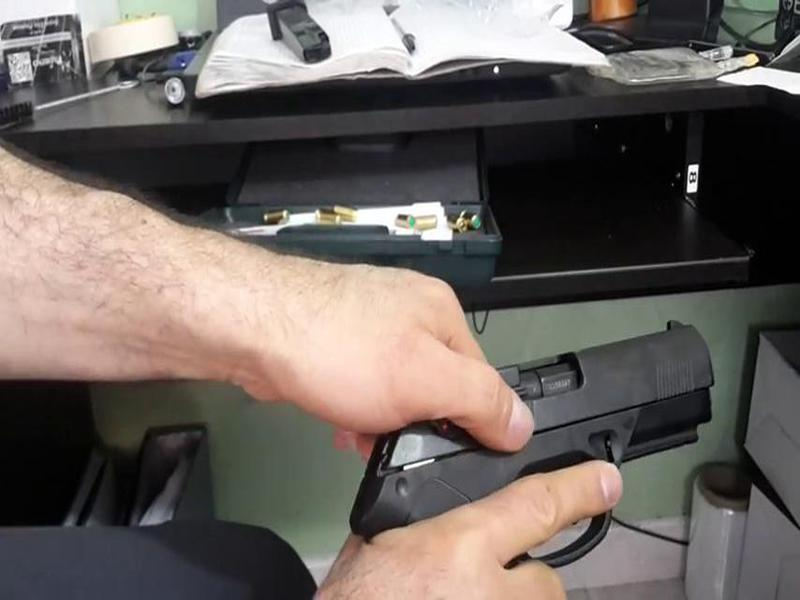Pistola: (286, 313, 719, 582)
